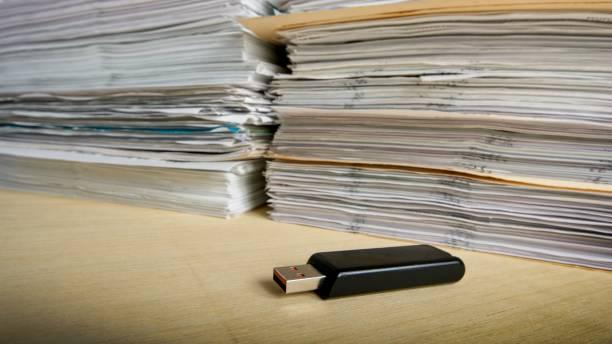USB Flash Drive: (272, 245, 466, 302)
